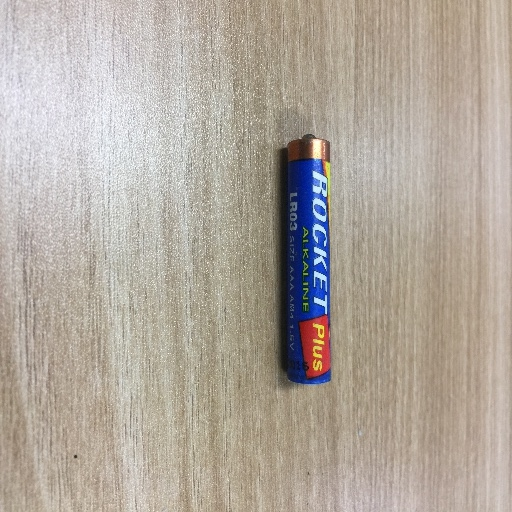Battery_0: (266, 123, 349, 399)
